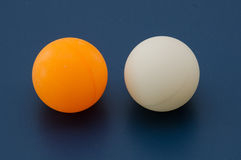ball: (28, 33, 115, 118), (122, 33, 204, 118)
